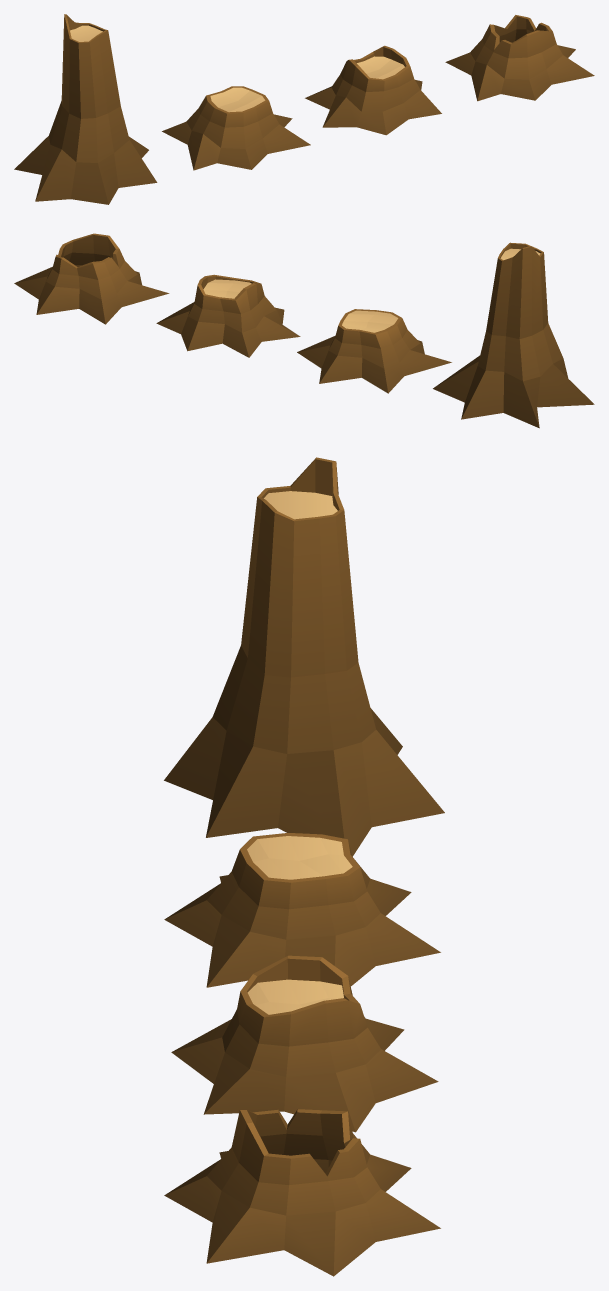
The model's file is TreeStumps.fbx.
3 views of the same model, one above another, from view 1: azimuth 30°, elevation 25°; view 2: azimuth 150°, elevation 25°; view 3: azimuth 270°, elevation 25° (orthographic). The views are drawn at different scales.
Parts seen in each view (by area): view 1: Stump_average_high, Stump_average_flat, Stump_average_hollow, Stump_average_low; view 2: Stump_average_high, Stump_average_hollow, Stump_average_flat, Stump_average_low; view 3: Stump_average_high, Stump_average_hollow, Stump_average_low, Stump_average_flat.
Part boxes in pixels (<box>): Stump_average_high: <box>14,14,157,204</box>; Stump_average_flat: <box>162,86,310,170</box>; Stump_average_hollow: <box>445,15,594,101</box>; Stump_average_low: <box>305,45,441,135</box>; Stump_average_high: <box>433,242,594,428</box>; Stump_average_hollow: <box>14,233,169,324</box>; Stump_average_flat: <box>297,309,451,393</box>; Stump_average_low: <box>156,274,300,357</box>; Stump_average_high: <box>164,457,444,856</box>; Stump_average_hollow: <box>164,1109,440,1276</box>; Stump_average_low: <box>171,955,438,1132</box>; Stump_average_flat: <box>164,833,440,987</box>.
Bounding box in the file's own units: 1320 × 358 × 287.
2 materials, 2 textured.
